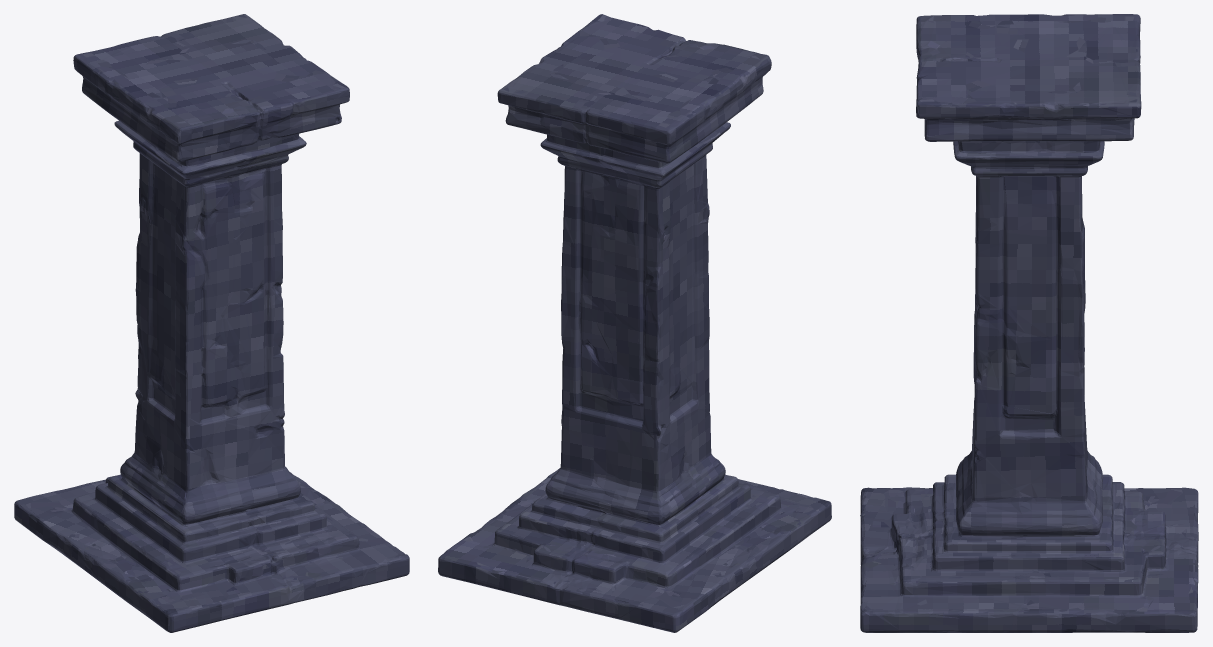
The model's file is weathered-monolith-pillar-generated-2026-04-19T23-48-08-244Z.low.glb.
3 renders of one model, left to right at view 1: azimuth 30°, elevation 25°; view 2: azimuth 150°, elevation 25°; view 3: azimuth 270°, elevation 25°, orthographic. The views are drawn at different scales.
Parts seen in each view (by area): view 1: temp_mesh.ply; view 2: temp_mesh.ply; view 3: temp_mesh.ply.
Boxes of the visible parts, x1,y1,x2,y2 form: temp_mesh.ply: (14,14,409,632); temp_mesh.ply: (438,14,831,632); temp_mesh.ply: (860,14,1198,632).
Size of the model in its own units: 1.05 by 1.97 by 1.18.
1 material, 1 textured.
